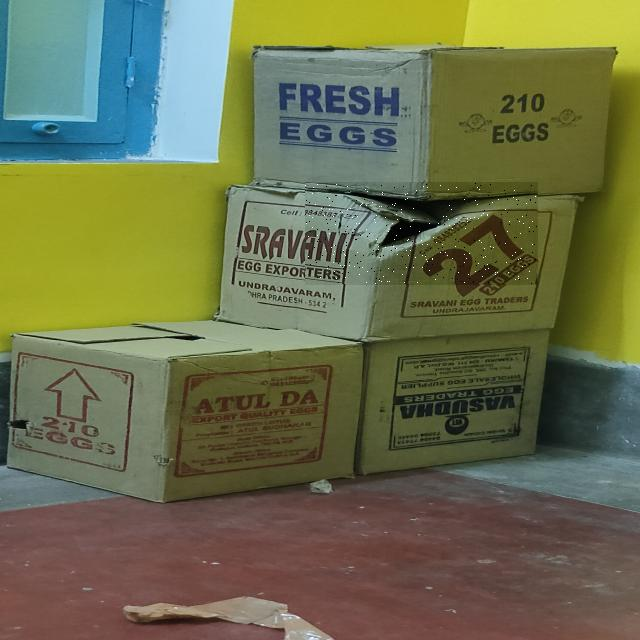squeeze: (305, 183, 537, 284)
